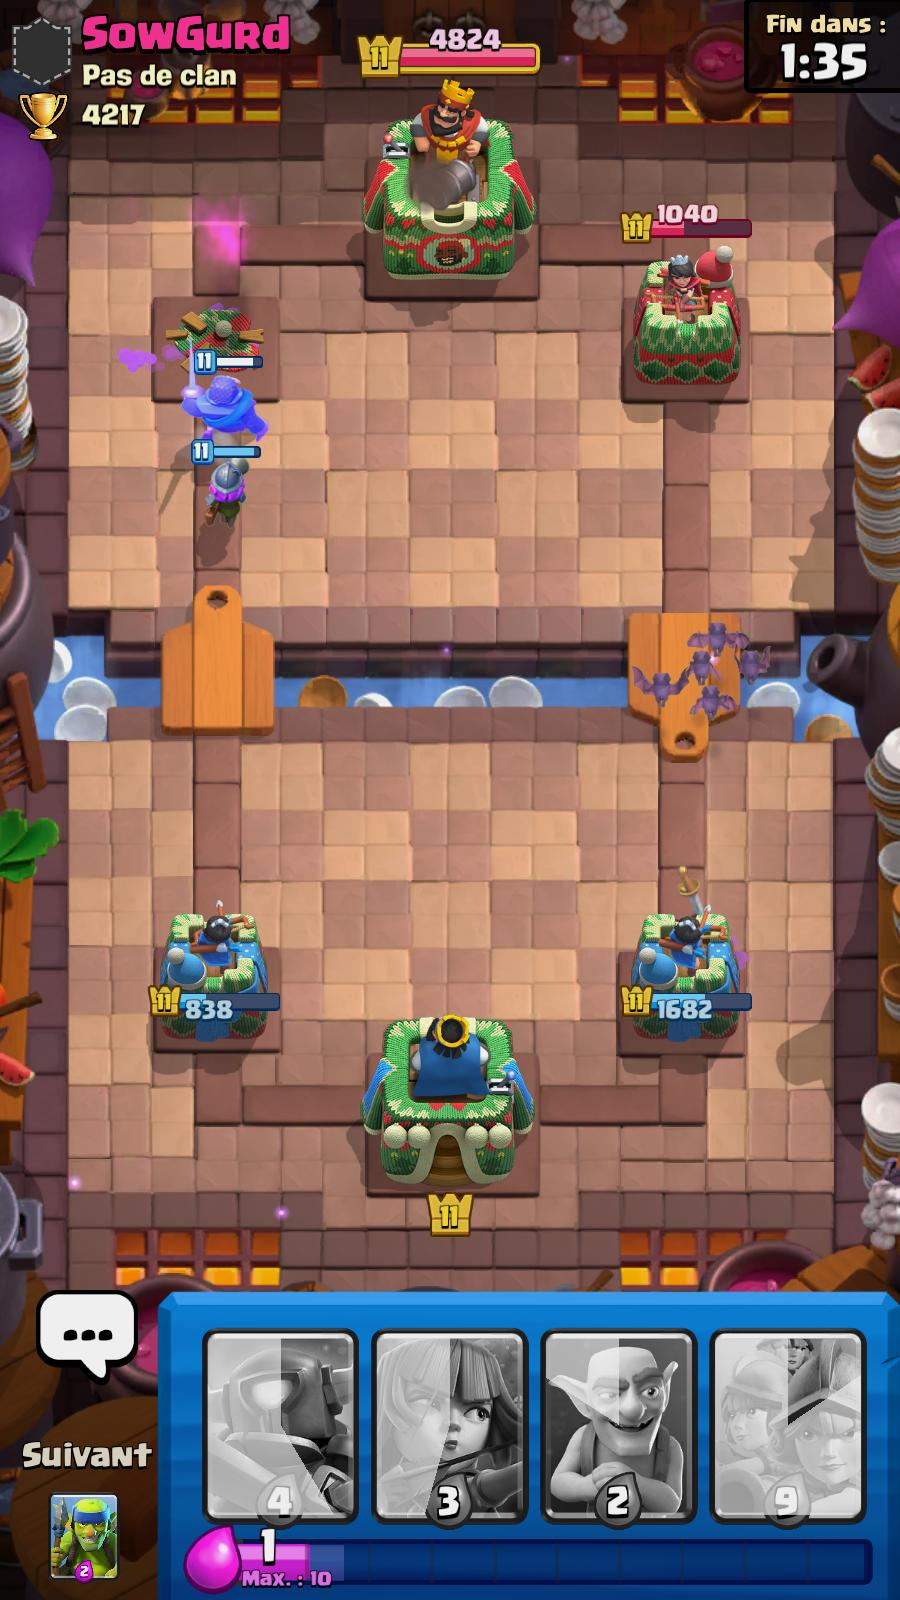bat: (629, 665, 692, 707), (689, 620, 752, 657), (729, 643, 776, 688), (691, 687, 741, 719), (684, 653, 724, 689)
chevalier: (187, 334, 263, 447)
mousquetaire: (192, 441, 263, 526)
